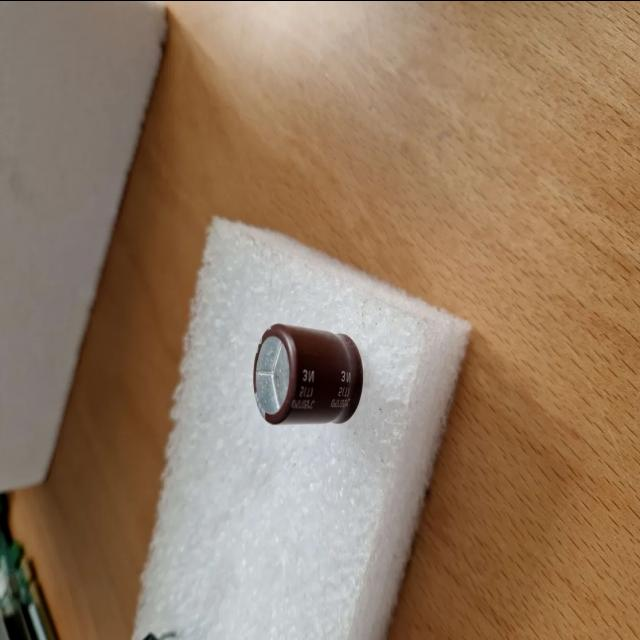C: (252, 324, 362, 424)
